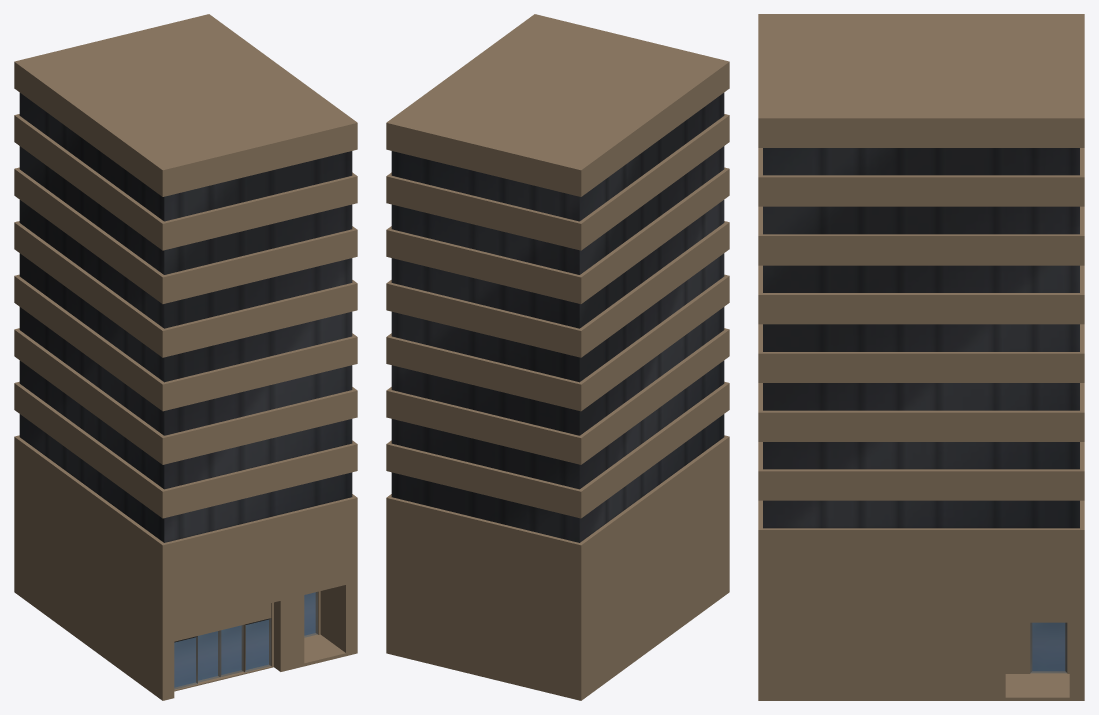
The model's file is Bld_Building_JA.fbx.
3 renders of one model, left to right at view 1: azimuth 30°, elevation 25°; view 2: azimuth 150°, elevation 25°; view 3: azimuth 270°, elevation 25°, orthographic. The views are drawn at different scales.
Parts seen in each view (by area): view 1: Bld_Building_JA; view 2: Bld_Building_JA; view 3: Bld_Building_JA.
Boxes of the visible parts, left/top/right/bottom form: Bld_Building_JA: left=14, top=14, right=357, bottom=700; Bld_Building_JA: left=386, top=14, right=729, bottom=700; Bld_Building_JA: left=758, top=14, right=1084, bottom=700.
Bounding box in the file's own units: 1000 × 2600 × 1320.
